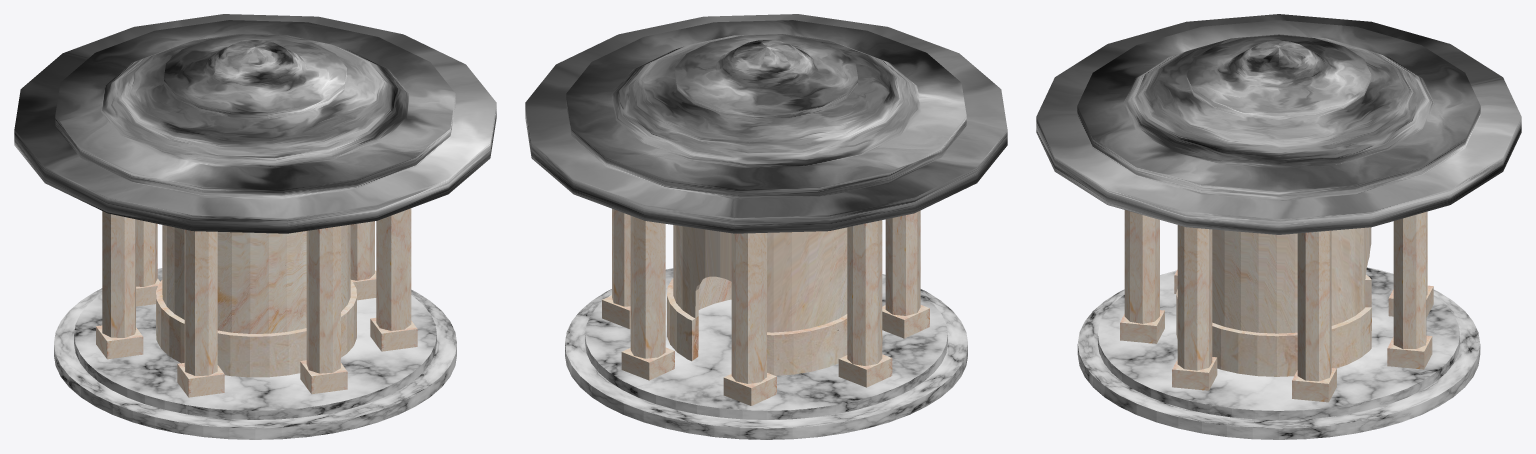
Rendered from ротонда1.fbx.
The picture shows the model from 3 angles, left to right: view 1: azimuth 30°, elevation 25°; view 2: azimuth 150°, elevation 25°; view 3: azimuth 270°, elevation 25°; orthographic projection.
Visible parts, largest first — view 1: Крыша, Цоколь, Колонны, Фасад.001; view 2: Крыша, Цоколь, Колонны, Фасад.001; view 3: Крыша, Цоколь, Колонны, Фасад.001.
Boxes of the visible parts, x1=… form: Крыша: x1=14, y1=14, x2=496, y2=233; Цоколь: x1=54, y1=268, x2=456, y2=439; Колонны: x1=96, y1=208, x2=417, y2=397; Фасад.001: x1=156, y1=224, x2=356, y2=377; Крыша: x1=525, y1=14, x2=1007, y2=233; Цоколь: x1=565, y1=268, x2=967, y2=439; Колонны: x1=602, y1=209, x2=929, y2=405; Фасад.001: x1=667, y1=225, x2=847, y2=375; Крыша: x1=1036, y1=14, x2=1521, y2=234; Цоколь: x1=1077, y1=267, x2=1480, y2=439; Колонны: x1=1120, y1=210, x2=1433, y2=402; Фасад.001: x1=1176, y1=227, x2=1371, y2=376.
Size of the model in its own units: 19300 by 13484 by 19300.
Materials: 4 (4 with a texture image).
